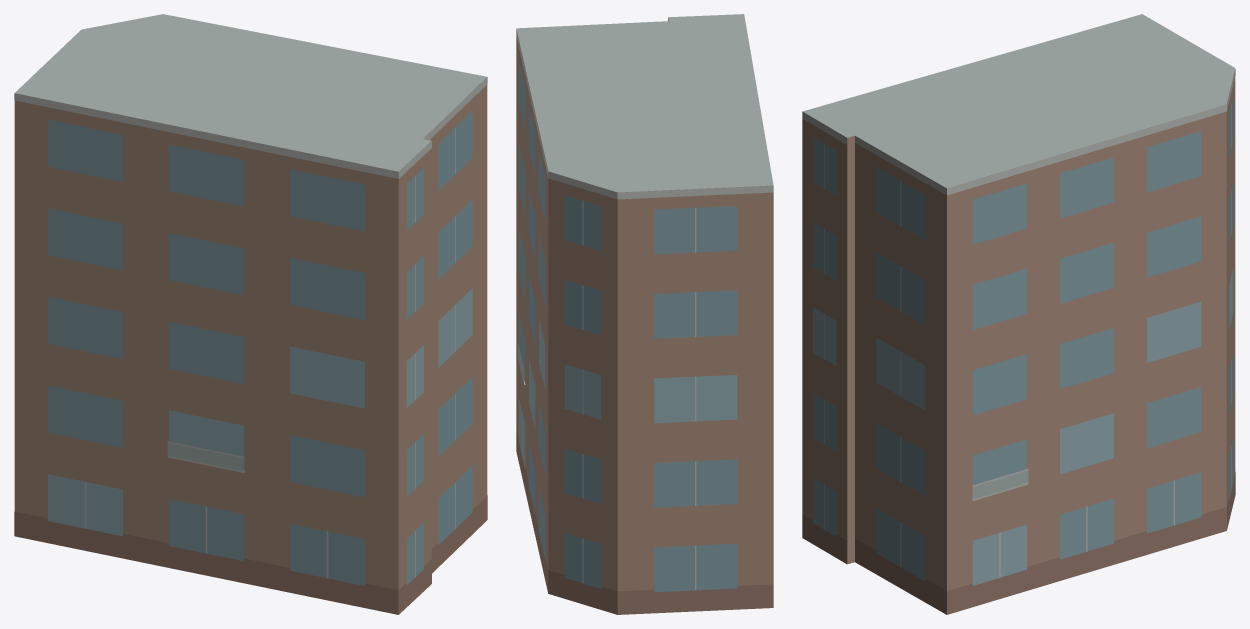
File: survey-upis-32780391.glb
3 renders of one model, left to right at view 1: azimuth 30°, elevation 25°; view 2: azimuth 150°, elevation 25°; view 3: azimuth 270°, elevation 25°, orthographic. The views are drawn at different scales.
Visible parts, largest first — view 1: survey-upis-32780391.tmp; view 2: survey-upis-32780391.tmp; view 3: survey-upis-32780391.tmp.
Part boxes in pixels (bbox=[...]): survey-upis-32780391.tmp: bbox=[14, 14, 487, 614]; survey-upis-32780391.tmp: bbox=[516, 14, 773, 614]; survey-upis-32780391.tmp: bbox=[802, 14, 1235, 614].
Bounding box in the file's own units: 12.9 × 14.7 × 13.54.
